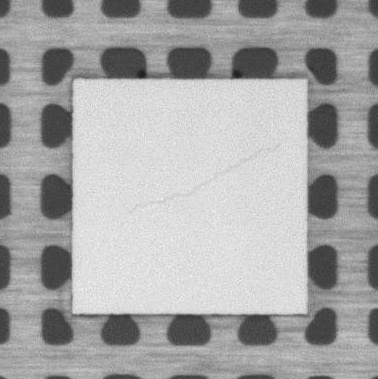DIE_CRACK: (127, 143, 280, 216)
